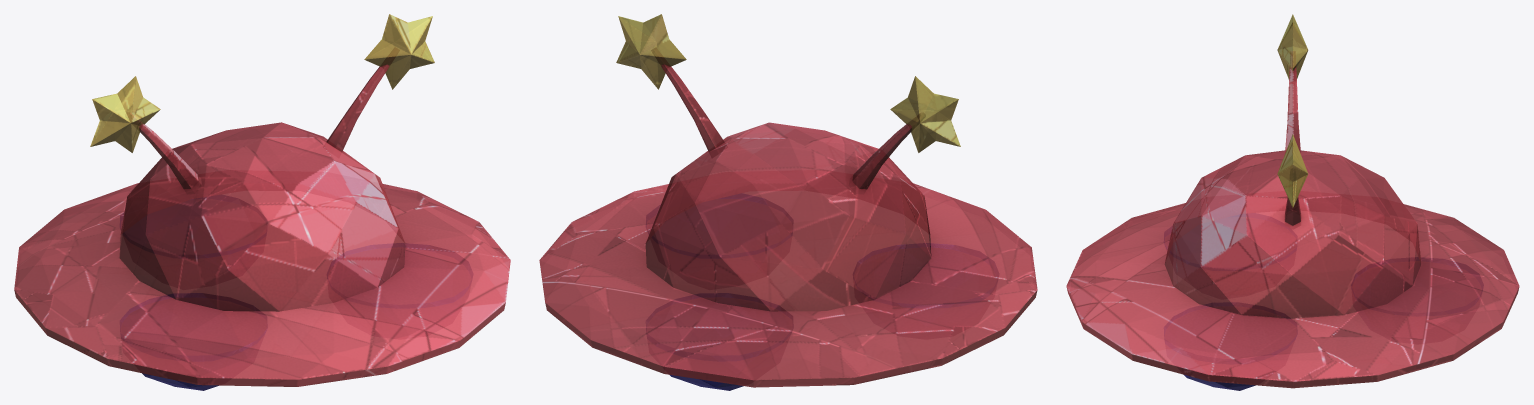
Rendered from UFO.fbx.
3 views of the same model, side by side, from view 1: azimuth 30°, elevation 25°; view 2: azimuth 150°, elevation 25°; view 3: azimuth 270°, elevation 25° (orthographic). The views are drawn at different scales.
Visible parts, largest first — view 1: UFO_kansei; view 2: UFO_kansei; view 3: UFO_kansei.
Boxes of the visible parts, <box> form: UFO_kansei: <box>14,14,510,390</box>; UFO_kansei: <box>539,14,1037,390</box>; UFO_kansei: <box>1066,14,1519,390</box>.
Size of the model in its own units: 677 by 429 by 677.
